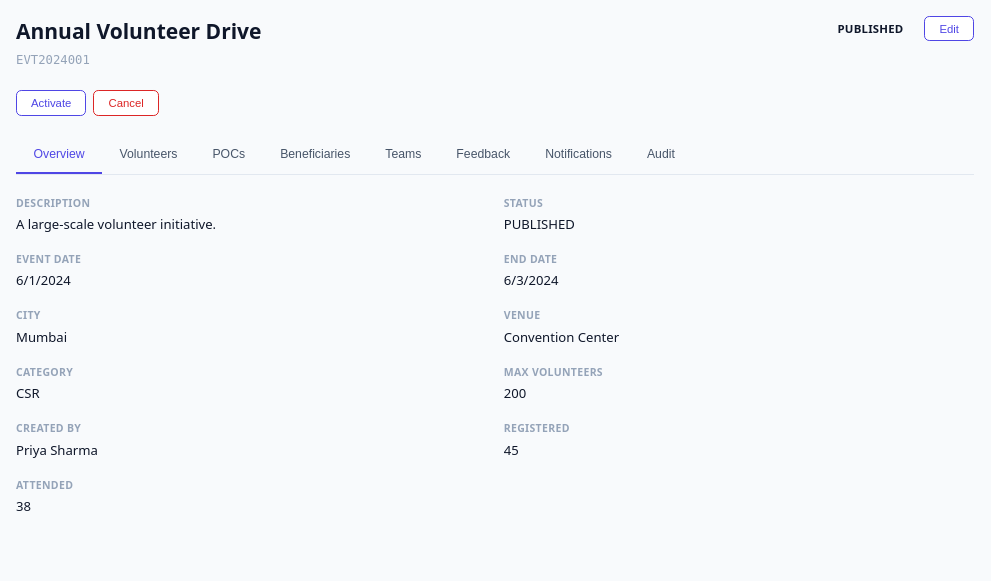
Test case: EventDetailContent › lifecycle transitions › keeps the status and shows the error when the server refuses
Expected: the heading "Annual Volunteer Drive" is shown, [16, 16, 261, 48]
# Click Activate button
Click the button "Activate".
click(51, 103)  # box [16, 90, 86, 116]
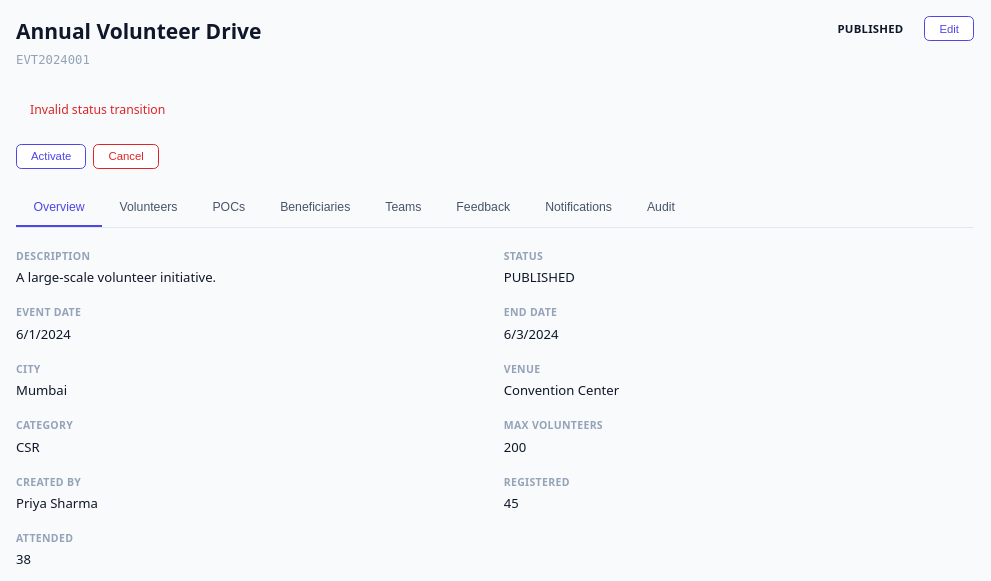
Now the message "Invalid status transition" is shown, box [30, 101, 165, 118]
